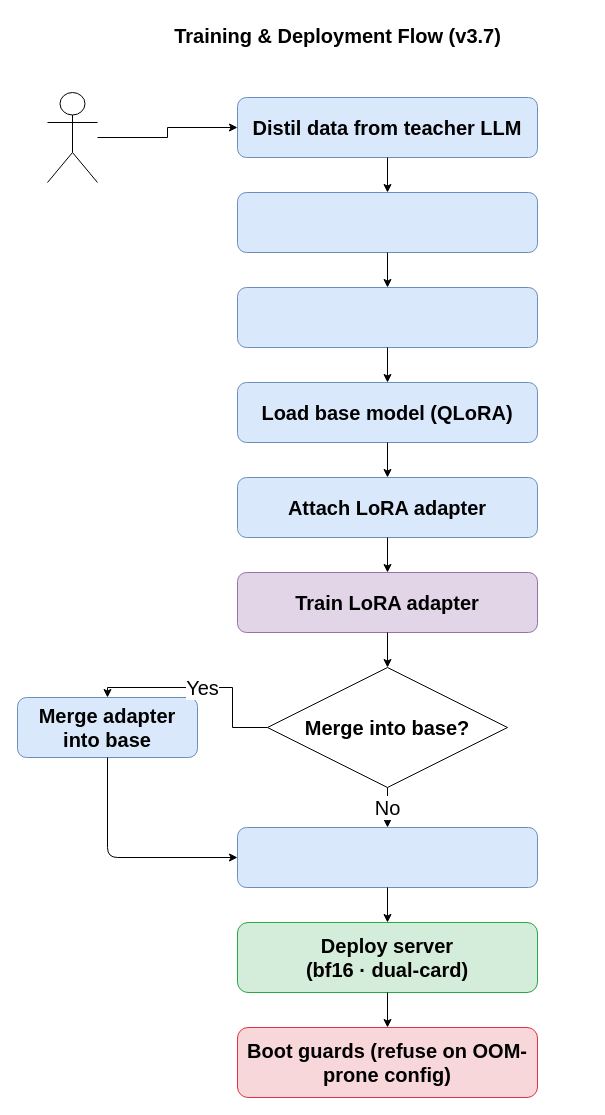
Some shapes in this 605 by 1115 pixel diagram are drawn without their labels. The centre of each missing label's shape, as x and y in pixels:
Build JSONL dataset: (387,222)
Preprocess dataset: (387,317)
Researcher: (72,137)
Save adapter: (387,857)
